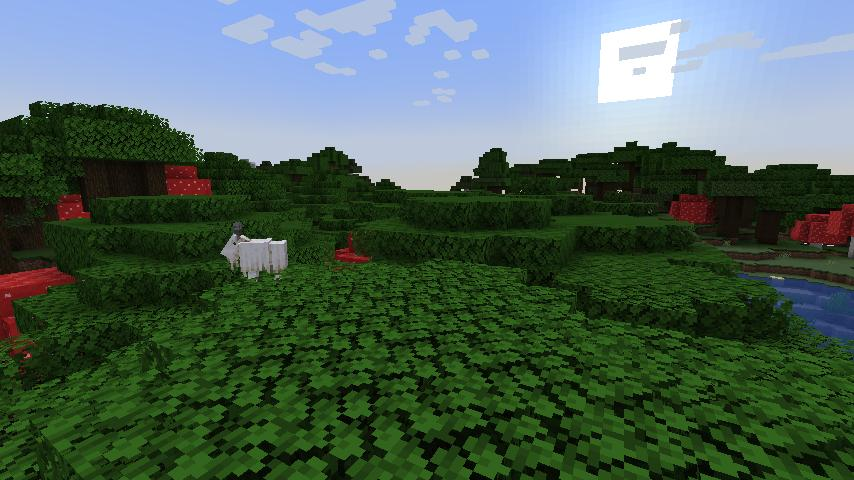goat: (219, 219, 290, 282)
